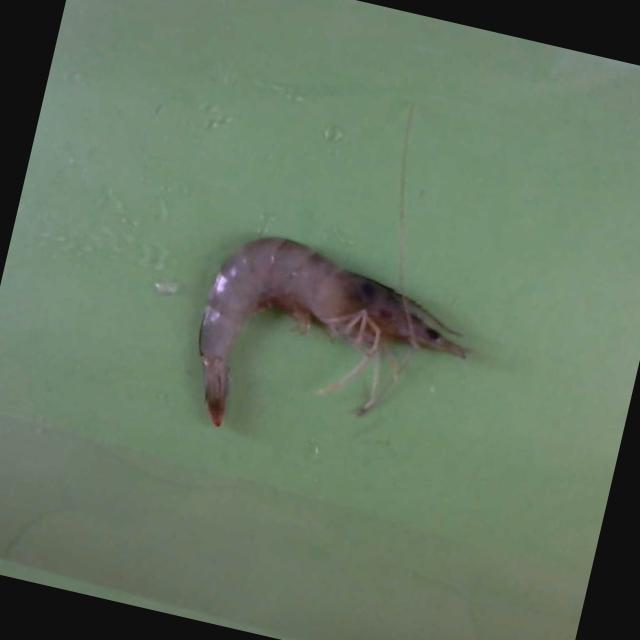shrimp: (199, 237, 467, 427)
